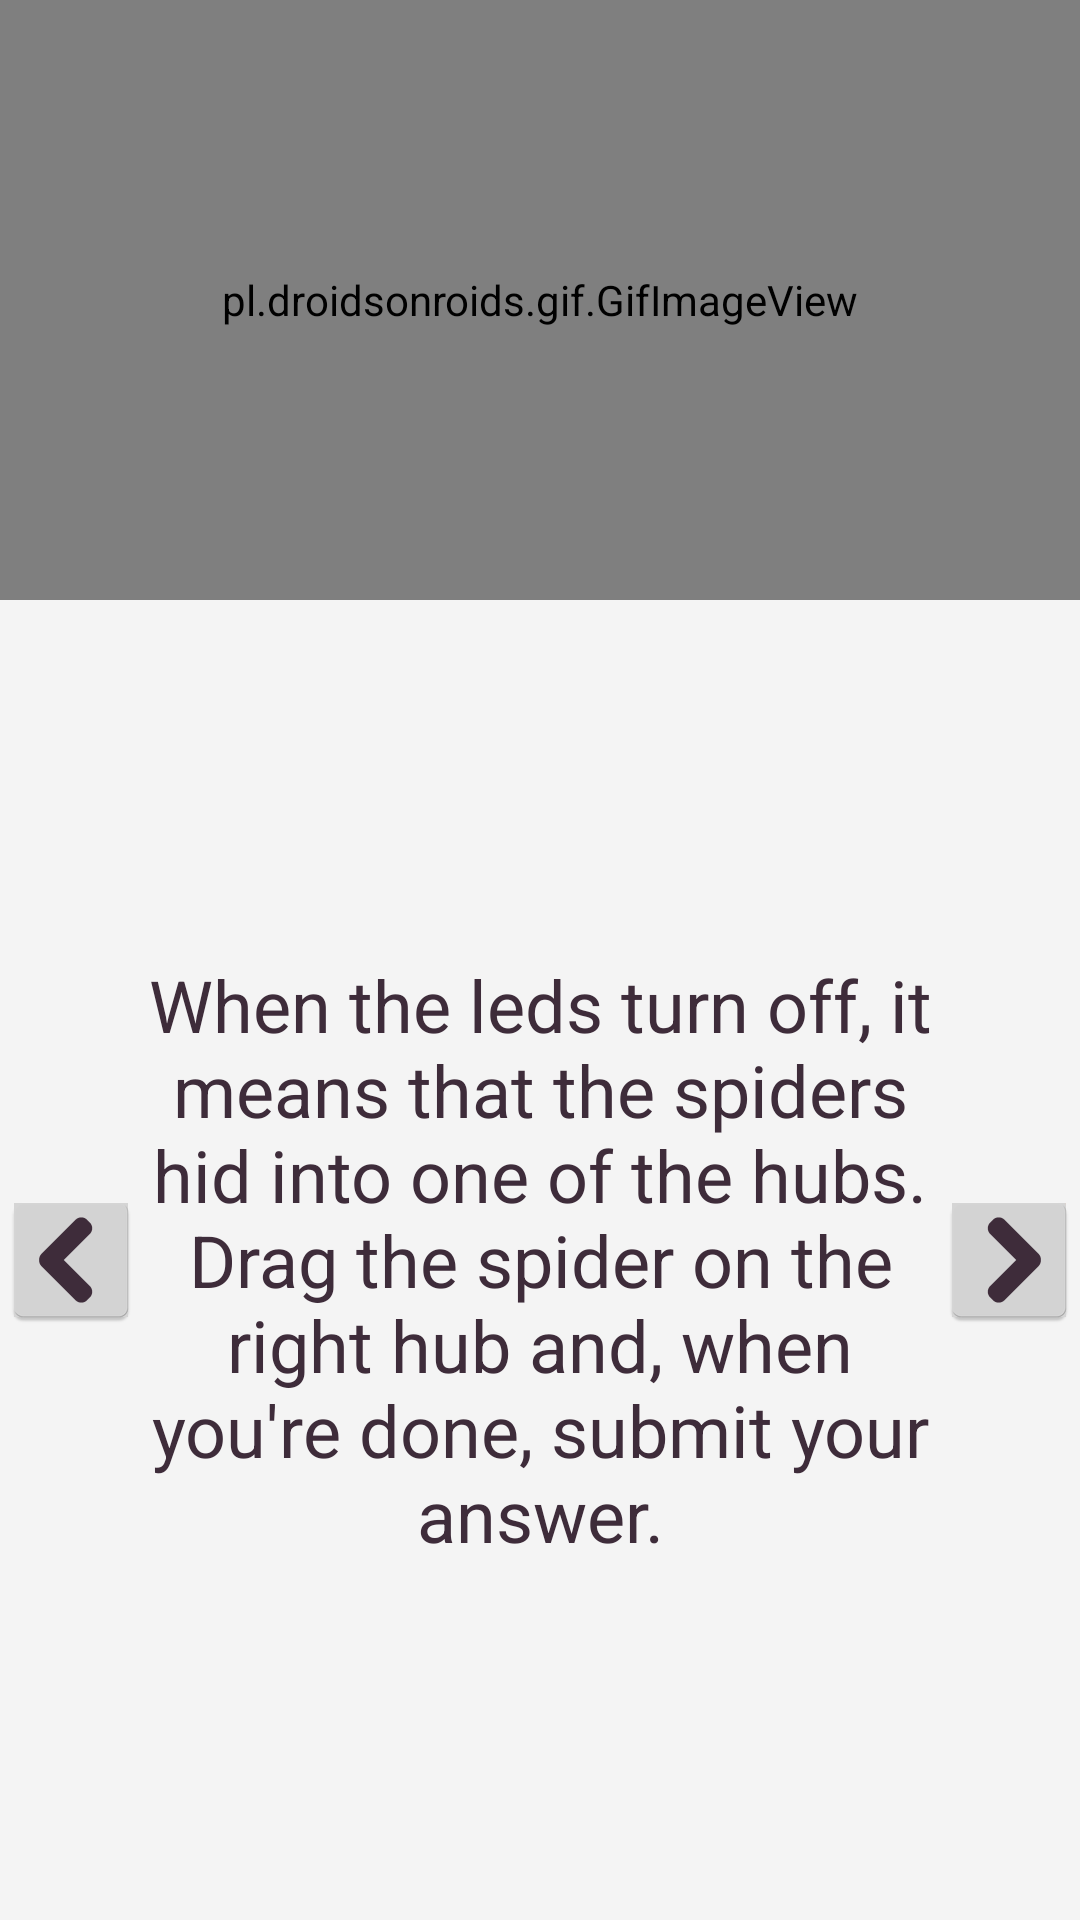

Locate icon controls on the screen. Image size 1080*1920, boxes as (x1, y1, x2, y2).
avanti: (952, 1203, 1067, 1321)
indietro: (14, 1203, 129, 1321)
